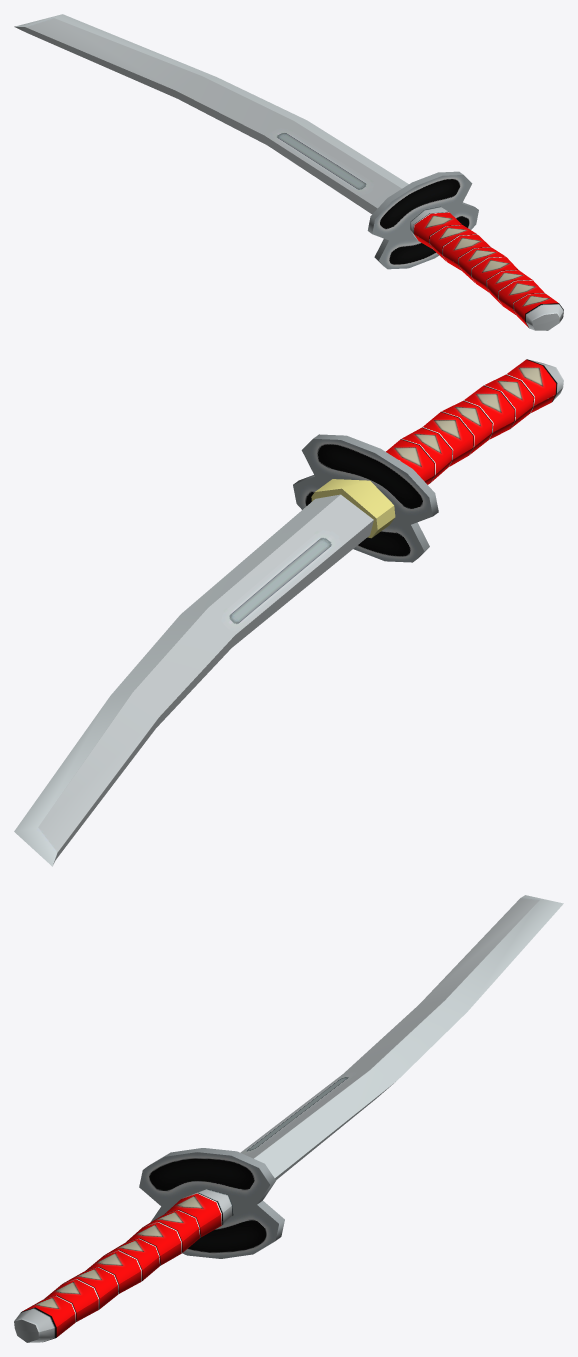
The model's file is reg katana.fbx.
3 views of the same model, one above another, from view 1: azimuth 30°, elevation 25°; view 2: azimuth 150°, elevation 25°; view 3: azimuth 330°, elevation 25° (orthographic). The views are drawn at different scales.
Parts seen in each view (by area): view 1: Katanas_fixpos:K_Regular3; view 2: Katanas_fixpos:K_Regular3; view 3: Katanas_fixpos:K_Regular3.
Part boxes in pixels (x1,y1,x2,y2): Katanas_fixpos:K_Regular3: [14, 14, 563, 330]; Katanas_fixpos:K_Regular3: [14, 359, 563, 866]; Katanas_fixpos:K_Regular3: [14, 895, 563, 1342].
Bounding box in the file's own units: 2.35 × 1.37 × 13.49.
